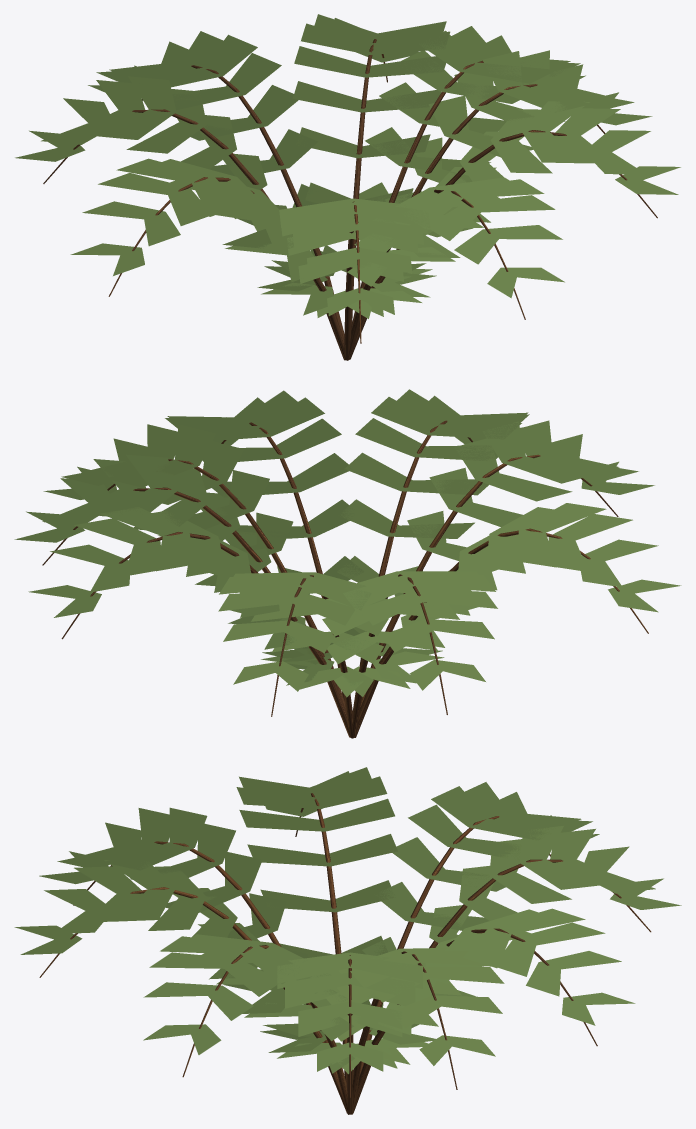
File: fern_fan.glb
3 renders of one model, top to bottom at view 1: azimuth 30°, elevation 25°; view 2: azimuth 150°, elevation 25°; view 3: azimuth 270°, elevation 25°, orthographic.
Parts seen in each view (by area): view 1: fern_fan; view 2: fern_fan; view 3: fern_fan.
Boxes of the visible parts, bbox=[...] form: fern_fan: bbox=[15, 14, 680, 360]; fern_fan: bbox=[14, 389, 681, 738]; fern_fan: bbox=[14, 767, 681, 1114].
Size of the model in its own units: 1.42 by 0.5458 by 1.42.
Materials: 2 (1 with a texture image).
